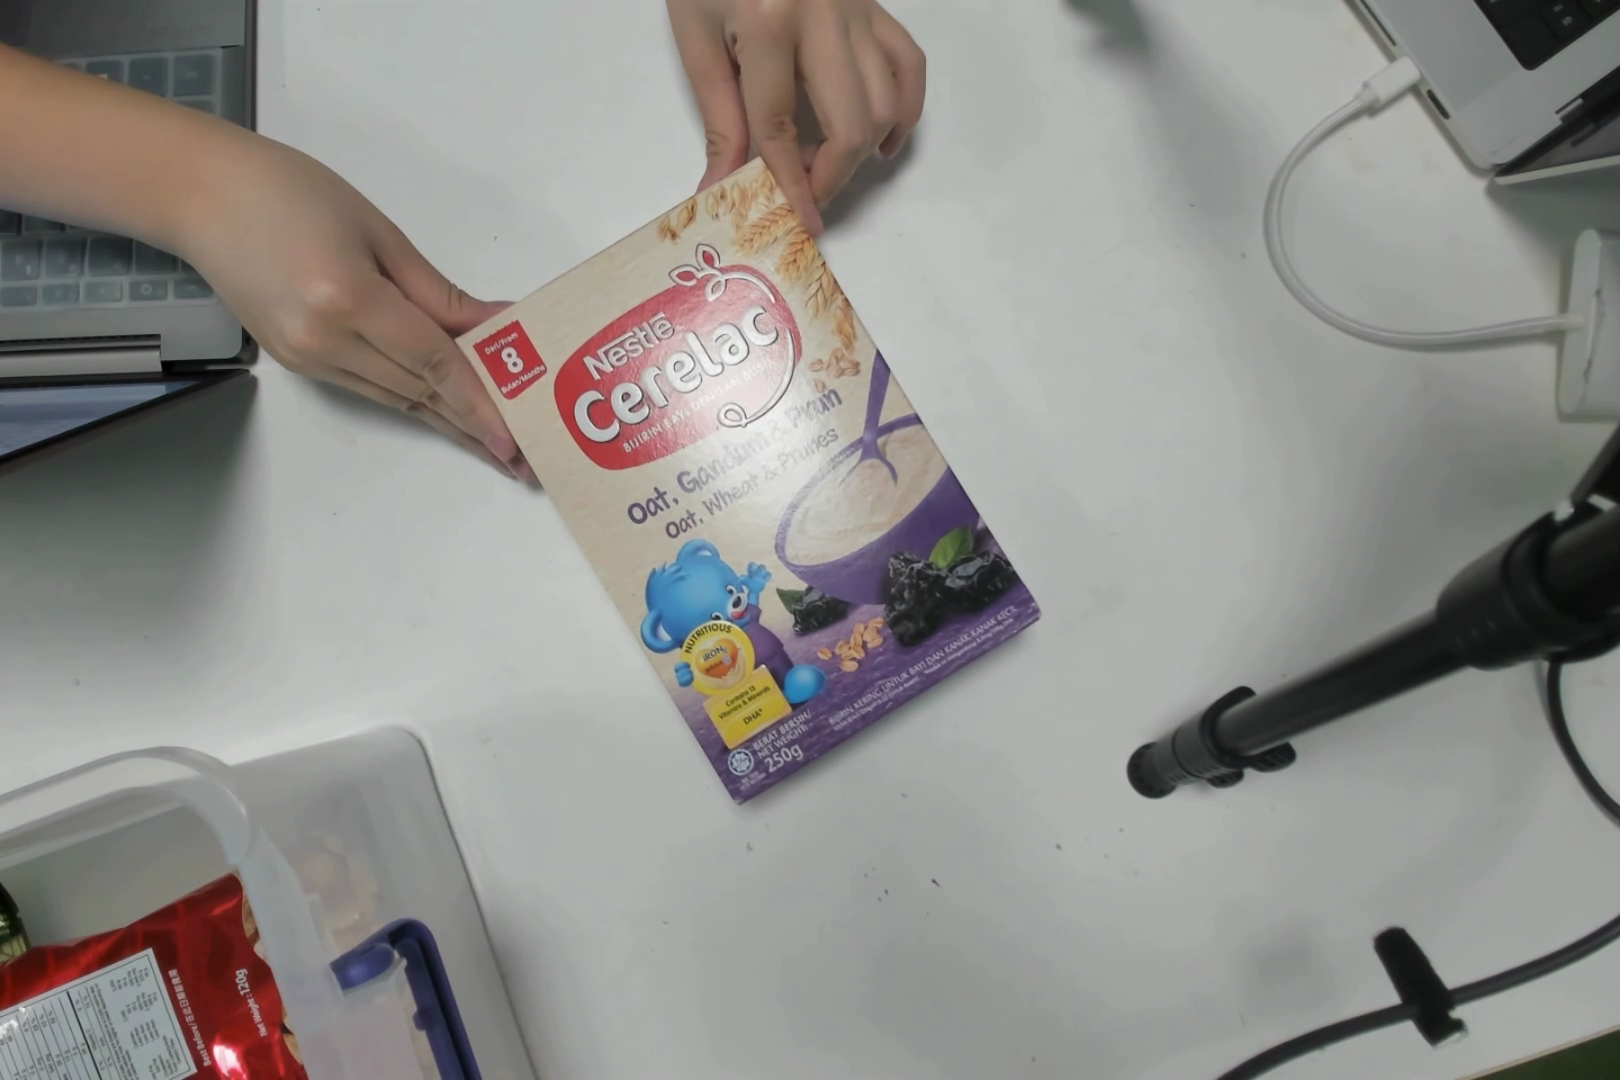d: (486, 184, 959, 794)
